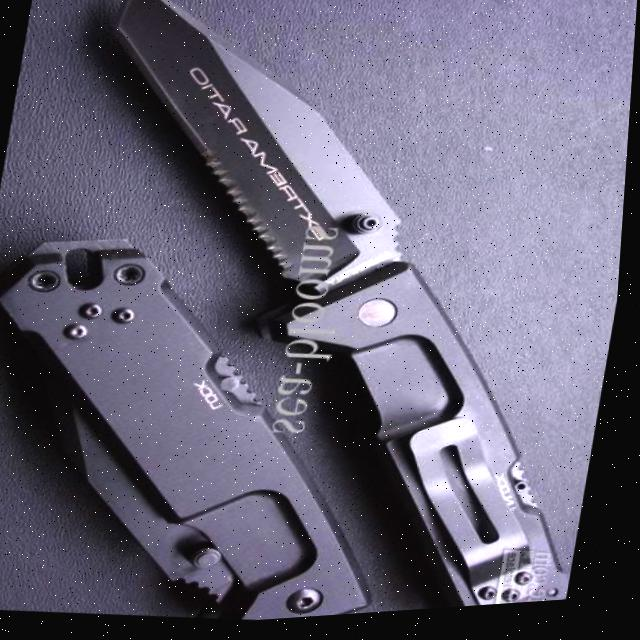knife: (15, 0, 640, 637), (0, 212, 443, 640)
